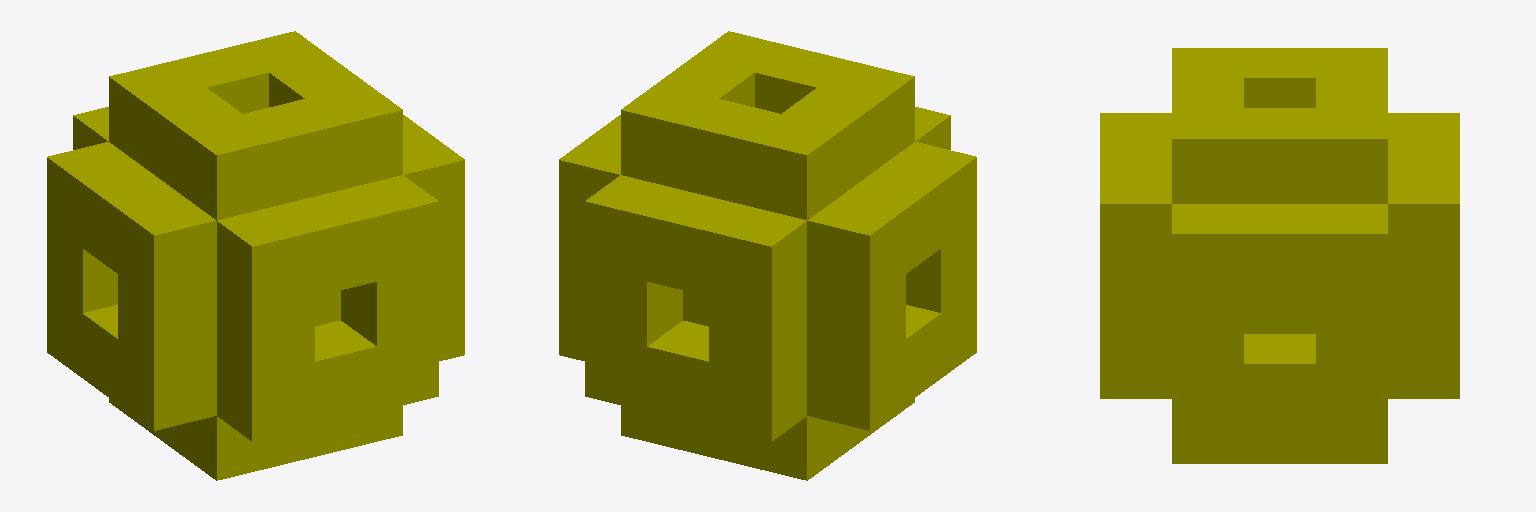
3 views of the same model, side by side, from view 1: azimuth 30°, elevation 25°; view 2: azimuth 150°, elevation 25°; view 3: azimuth 270°, elevation 25° (orthographic).
Parts seen in each view (by area): view 1: EnergyPelletObject5; view 2: EnergyPelletObject5; view 3: EnergyPelletObject5.
Boxes of the visible parts, x1=… form: EnergyPelletObject5: x1=47, y1=31, x2=464, y2=480; EnergyPelletObject5: x1=559, y1=31, x2=976, y2=480; EnergyPelletObject5: x1=1100, y1=48, x2=1459, y2=463.
Bounding box in the file's own units: 5 × 5 × 5.
1 materials, 1 textured.